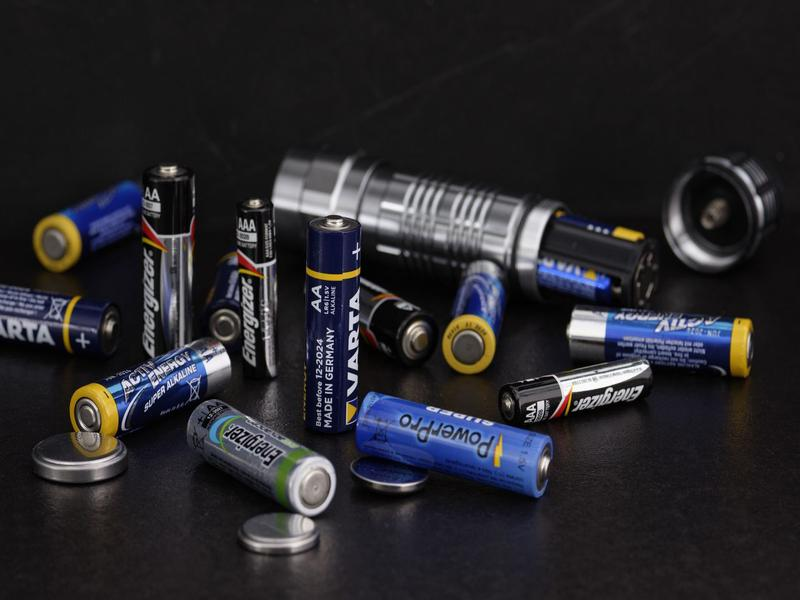battery: (351, 391, 558, 504), (58, 329, 234, 444), (182, 395, 341, 517), (551, 297, 765, 379), (127, 158, 211, 356), (296, 208, 368, 435), (495, 345, 659, 429), (222, 189, 291, 386), (434, 255, 512, 379)
